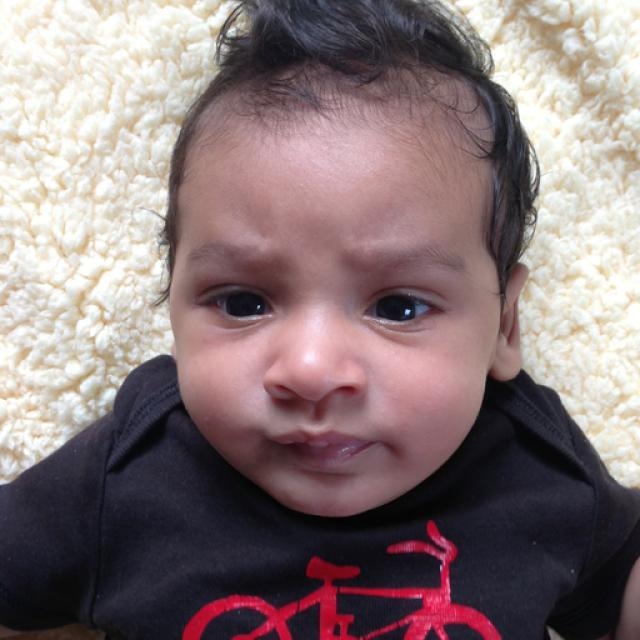sad: (170, 121, 494, 519)
